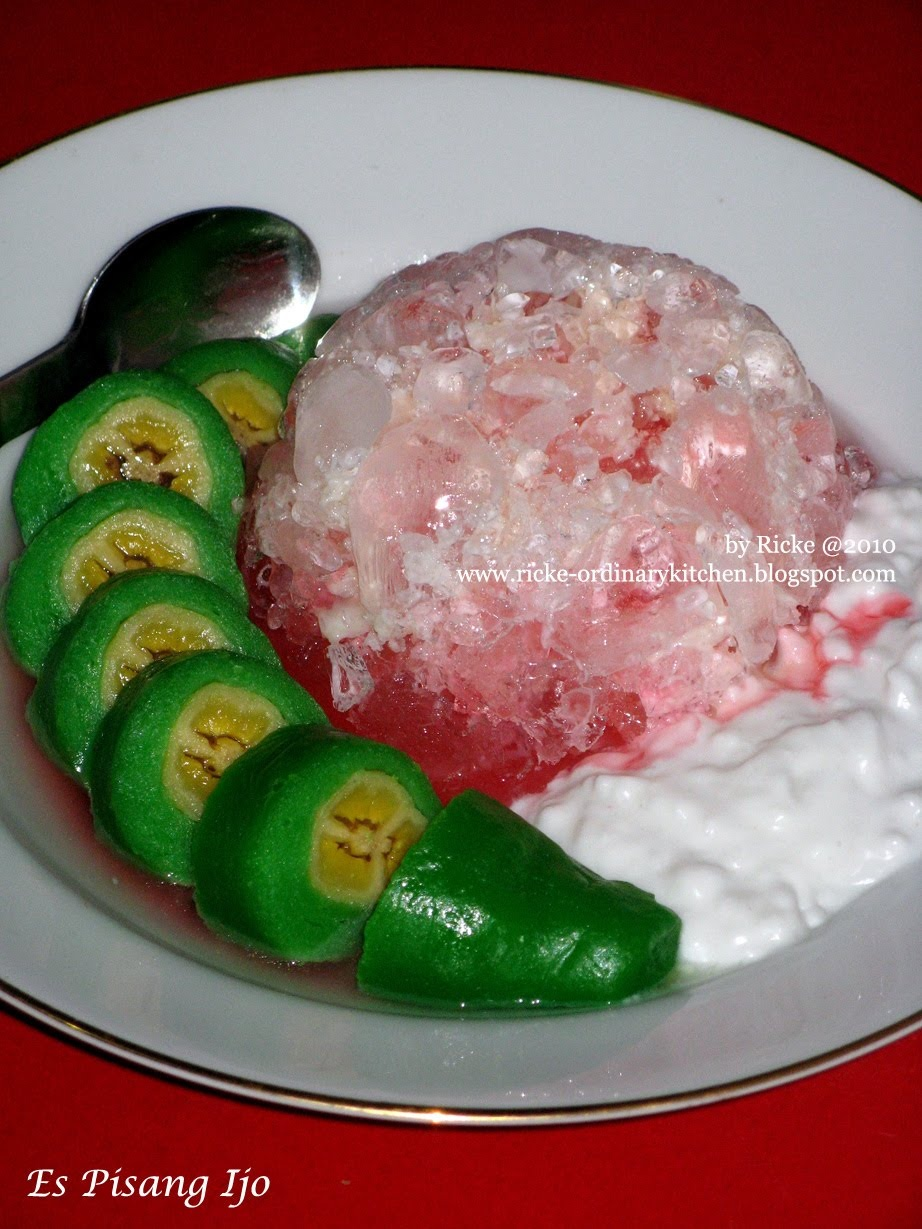es_pisang_ijo: (26, 234, 922, 1002)
